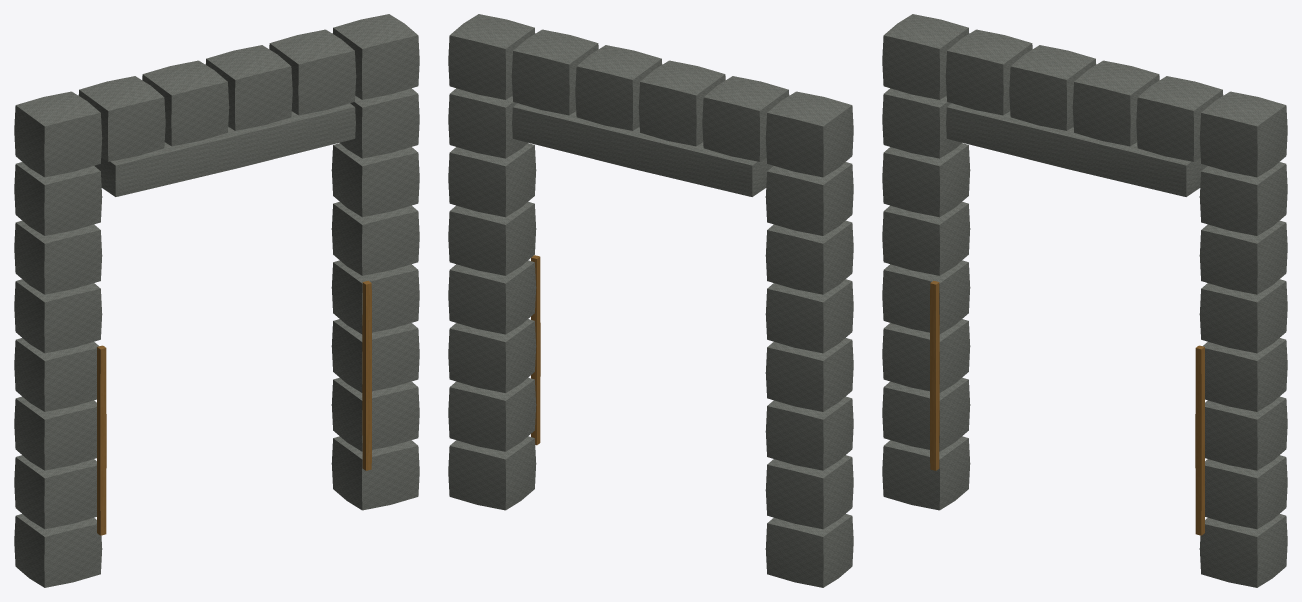
The picture shows the model from 3 angles, left to right: view 1: azimuth 30°, elevation 25°; view 2: azimuth 150°, elevation 25°; view 3: azimuth 330°, elevation 25°; orthographic projection.
Visible parts, largest first — view 1: stone.20, stone.14, stone.18, stone.15, stone.16, stone.17, stone.19, stone.10, stone.9, stone.12, stone.11, stone.8 (+11 smaller); view 2: stone.20, stone.14, stone.18, stone.15, stone.16, stone.17, stone.19, stone.4, stone.2, stone.5, stone.10, stone.1 (+10 smaller); view 3: stone.20, stone.19, stone.15, stone.17, stone.18, stone.16, stone.14, stone.11, stone.8, stone.13, stone.10, stone.9 (+11 smaller).
Part boxes in pixels (x1,y1,x2,y2): stone.20: (94, 103, 355, 196); stone.14: (14, 91, 102, 177); stone.18: (269, 29, 356, 115); stone.15: (78, 76, 165, 161); stone.16: (142, 60, 229, 146); stone.17: (205, 45, 292, 130); stone.19: (332, 14, 419, 99); stone.10: (14, 220, 102, 294); stone.9: (331, 201, 419, 275); stone.12: (14, 162, 102, 235); stone.11: (331, 143, 419, 217); stone.8: (14, 279, 102, 353); stone.20: (512, 103, 773, 196); stone.14: (765, 91, 853, 177); stone.18: (511, 29, 598, 115); stone.15: (702, 76, 789, 161); stone.16: (638, 60, 725, 146); stone.17: (575, 45, 662, 130); stone.19: (448, 14, 535, 99); stone.4: (765, 396, 853, 470); stone.2: (765, 455, 853, 529); stone.5: (448, 319, 536, 392); stone.10: (765, 220, 853, 294); stone.1: (448, 436, 536, 510); stone.20: (946, 103, 1207, 196); stone.19: (1199, 91, 1287, 177); stone.15: (945, 29, 1032, 115); stone.17: (1072, 60, 1159, 146); stone.18: (1136, 76, 1223, 161); stone.16: (1009, 45, 1096, 130); stone.14: (882, 14, 969, 99); stone.11: (1199, 220, 1287, 294); stone.8: (882, 201, 970, 275); stone.13: (1199, 162, 1287, 235); stone.10: (882, 143, 970, 217); stone.9: (1199, 279, 1287, 353).
Size of the model in its own units: 2.03 by 2.39 by 0.36.
2 materials, 2 textured.
